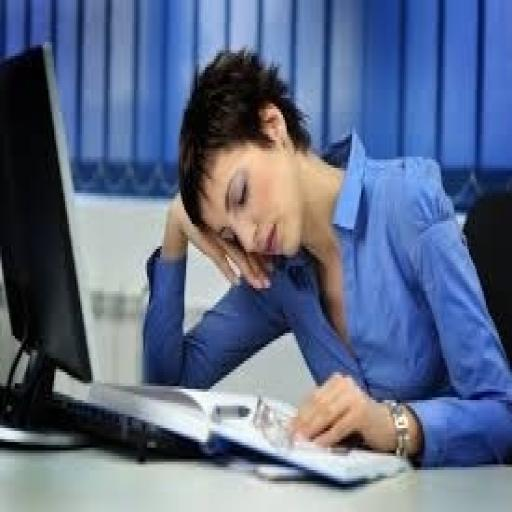sleeping: (140, 45, 510, 470)
